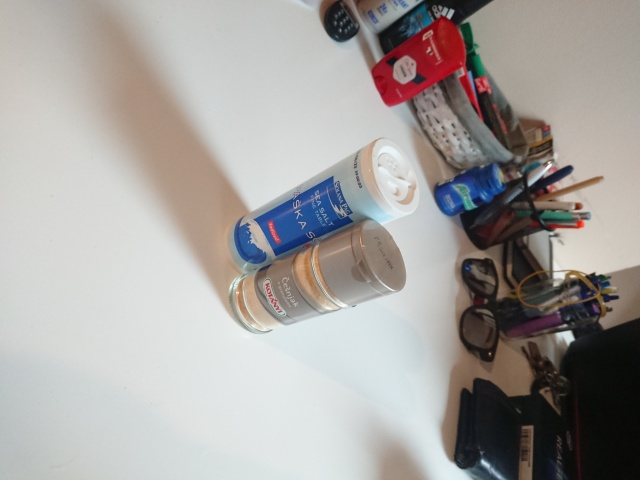Kotanyi Garlic Granules 70g: (225, 217, 409, 336)
Solana Pag Fine Sea Salt 250g: (220, 136, 422, 279)
